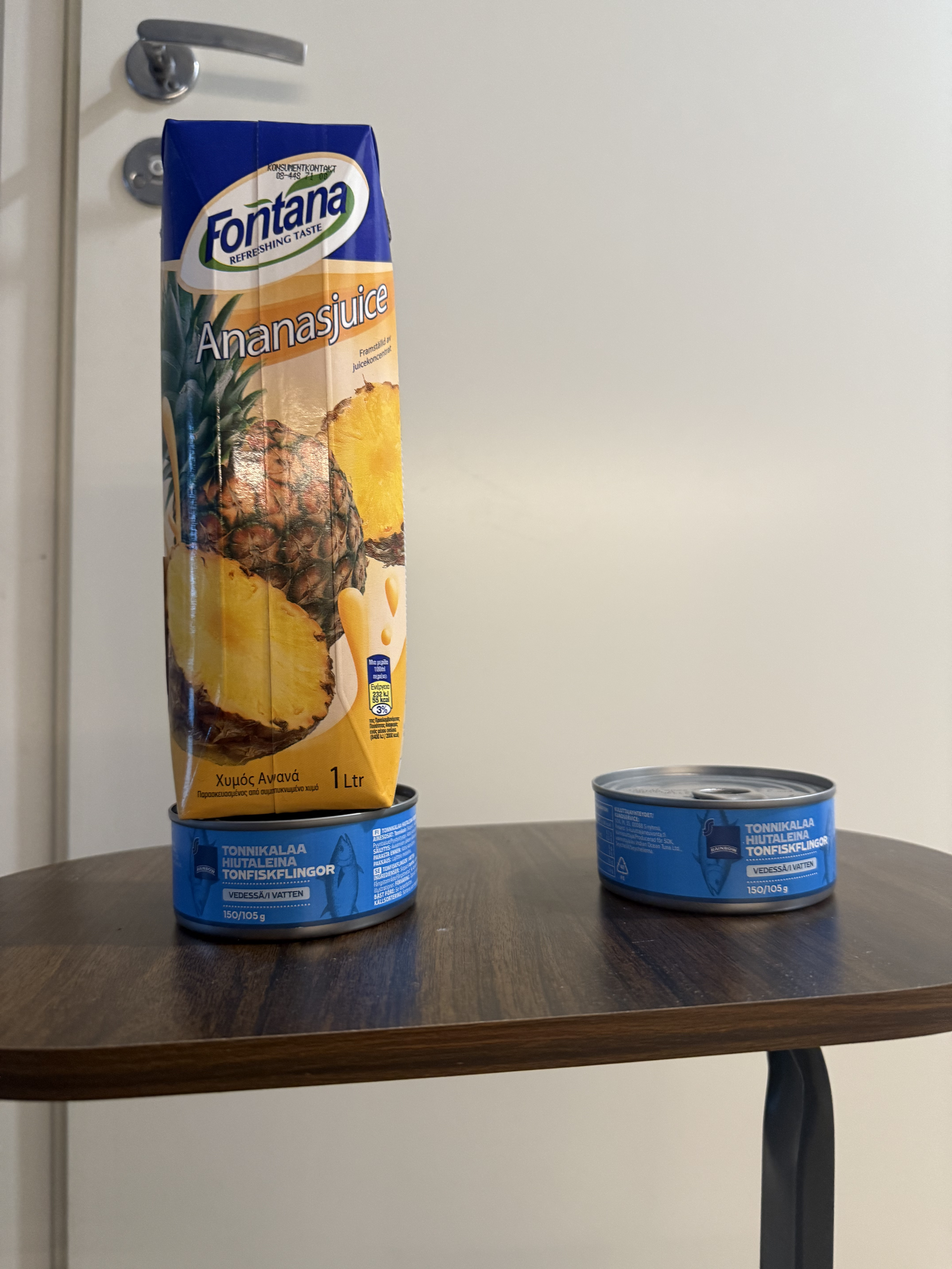Dryckeskartong: (158, 124, 410, 812)
Konservburk: (592, 773, 841, 908), (156, 817, 415, 924)
